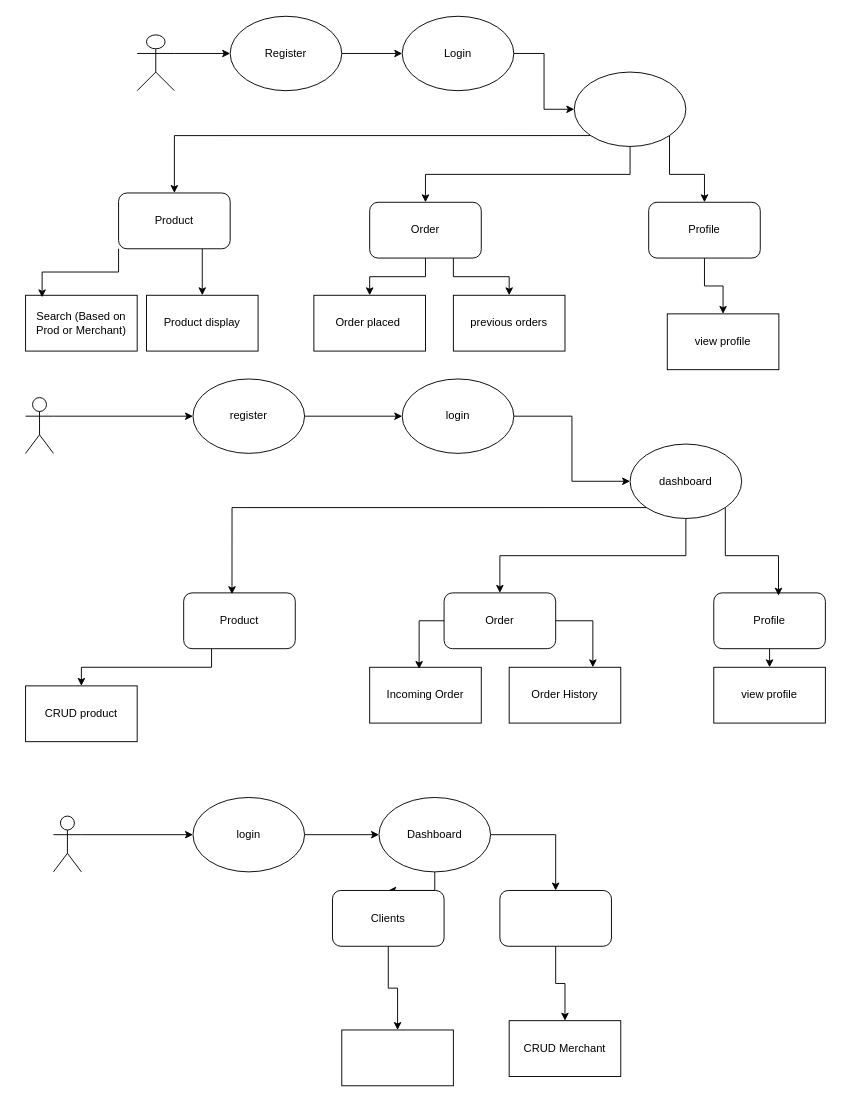
Image size: 842x1102. Some labels were removed from this diagram. The centre of each missing label's shape, as x and y in pixels:
"Admin" belongs at (67,843).
"Client" belongs at (155,62).
"CRUD Client" belongs at (397,1057).
"Home" belongs at (629,108).
"Merchant" belongs at (39,425).
"Merchants" belongs at (555,918).
